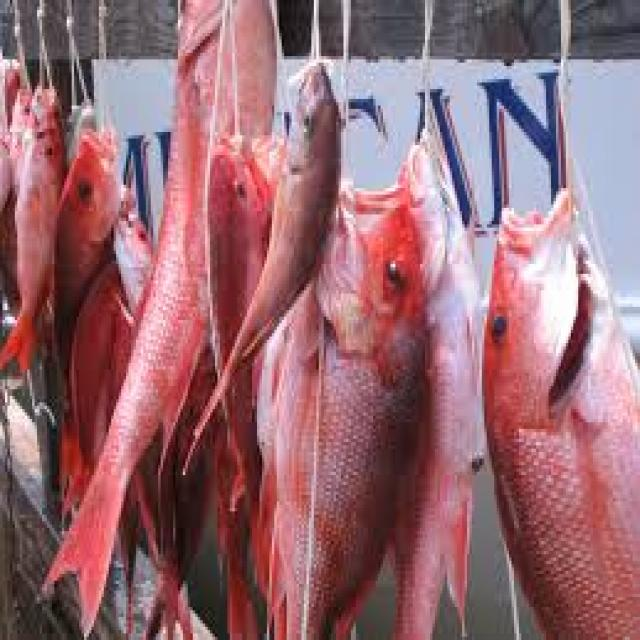northern-red-snapper: (67, 0, 291, 632), (261, 138, 462, 640), (476, 168, 640, 640), (196, 96, 312, 493), (2, 54, 124, 379)
